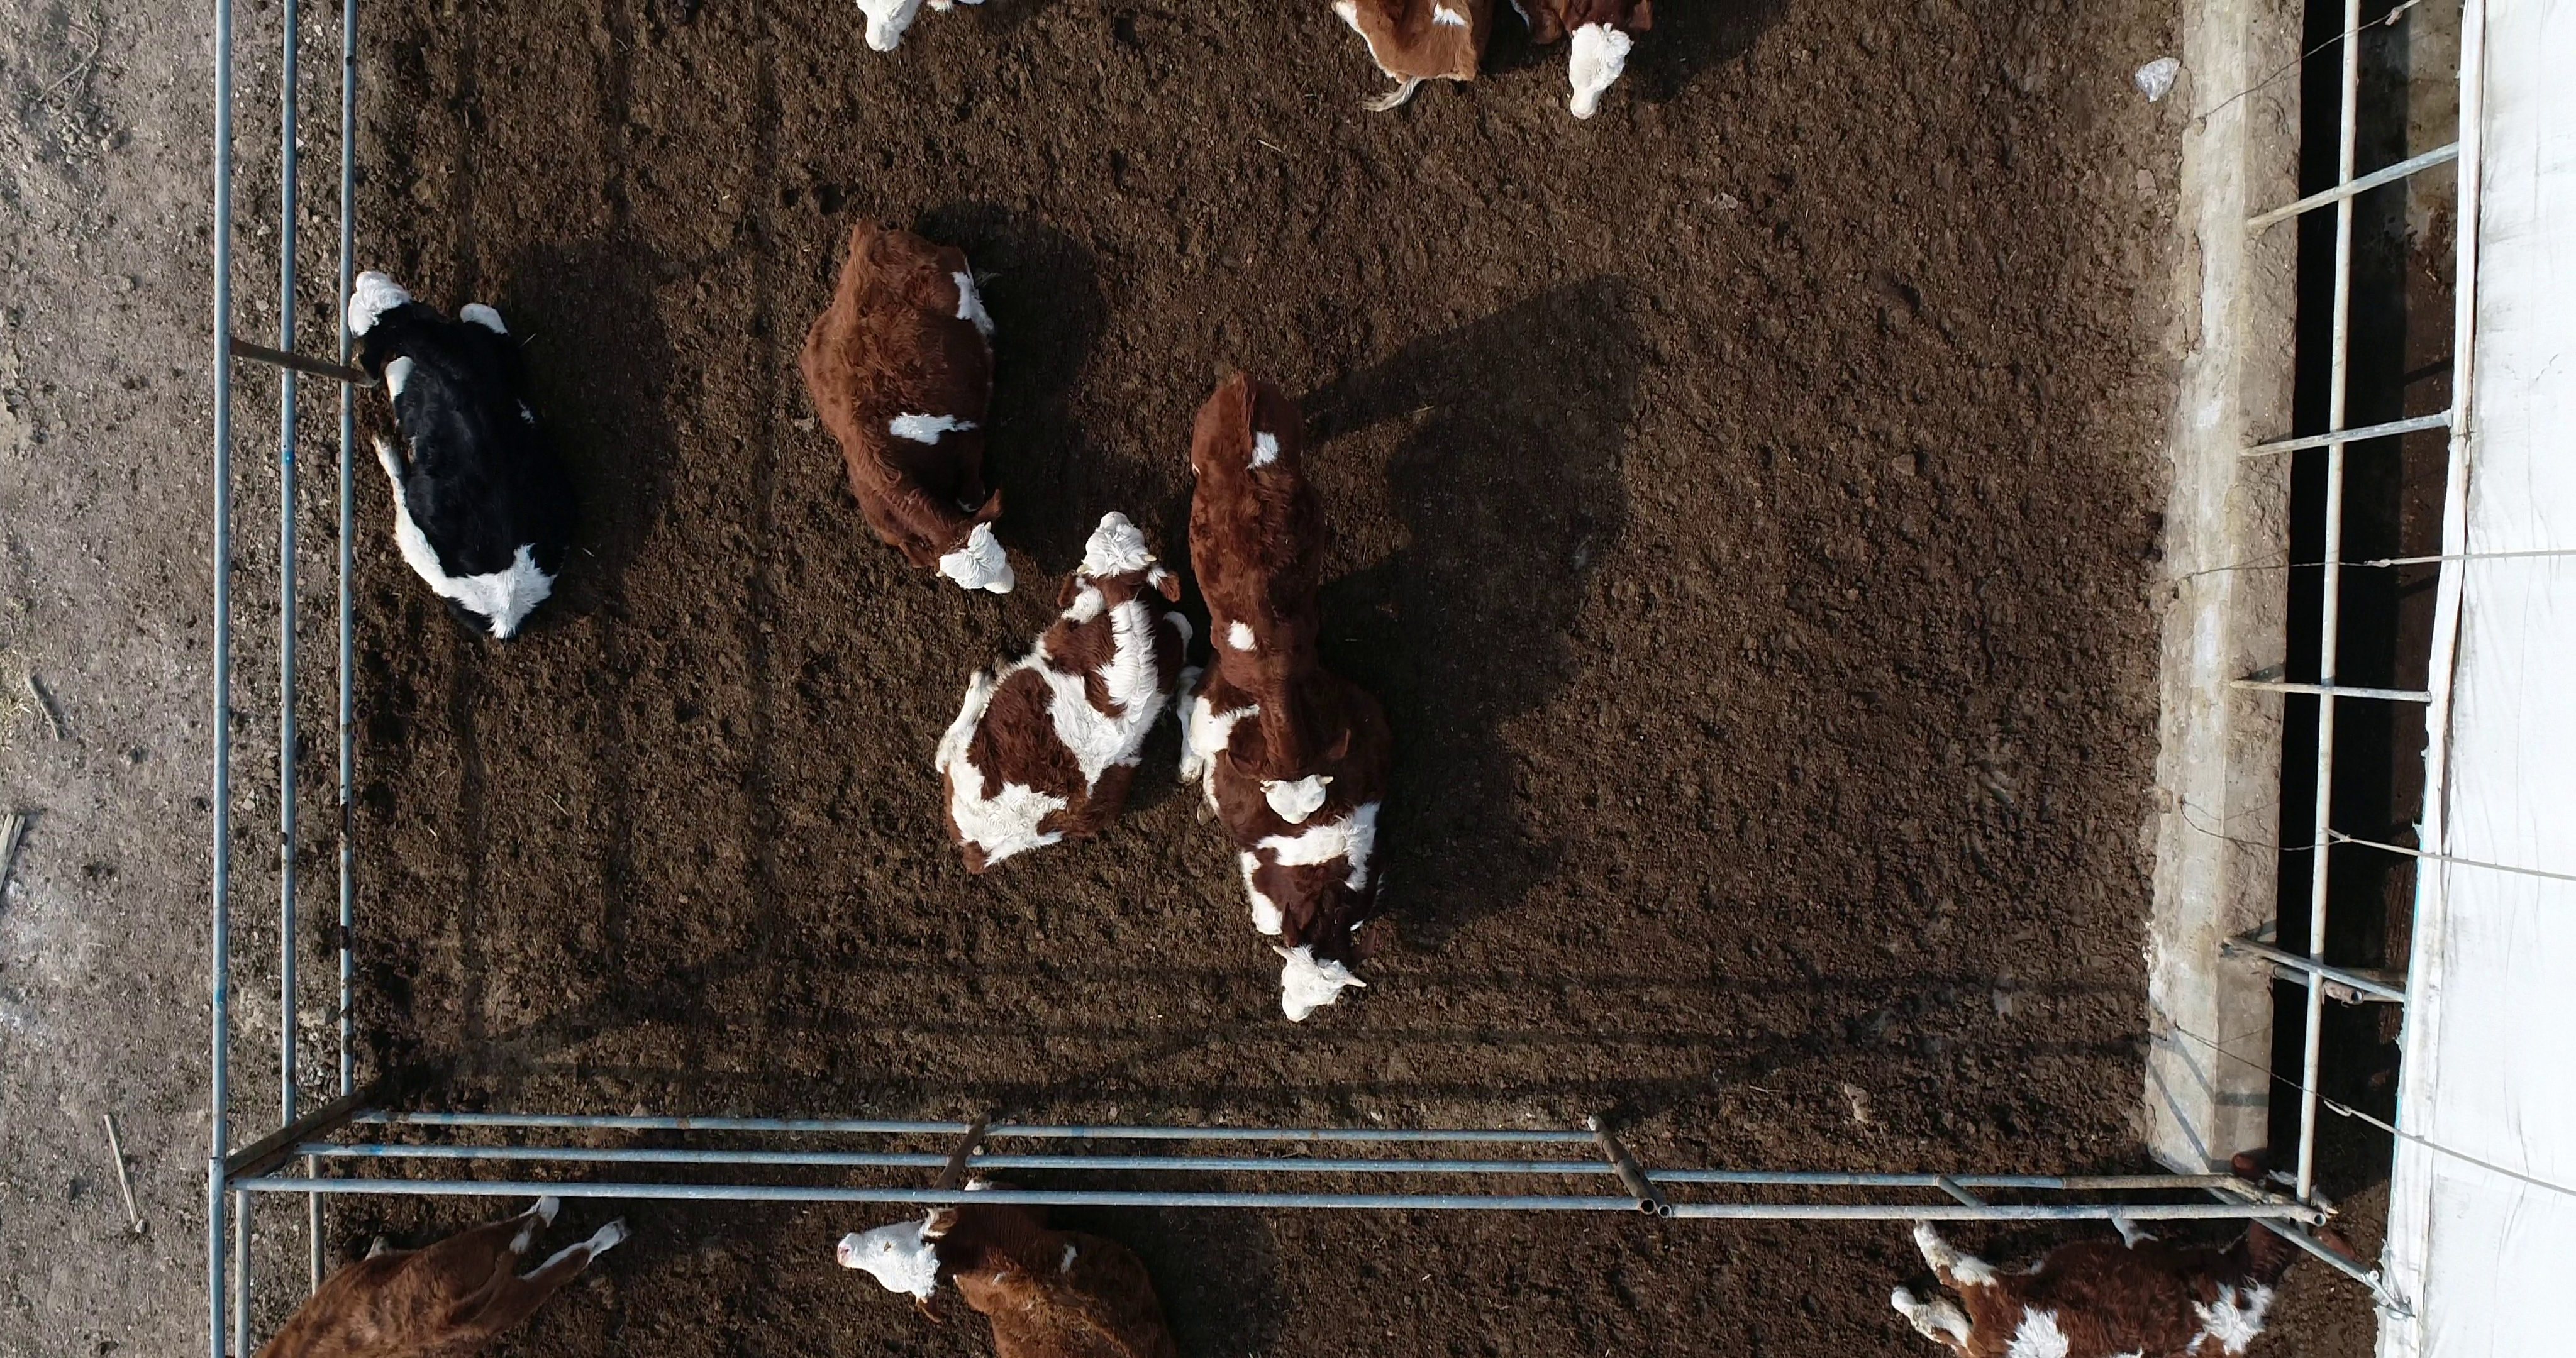cattle: (920, 506, 1198, 878), (796, 213, 1027, 596), (337, 264, 566, 649), (1184, 360, 1354, 825)
